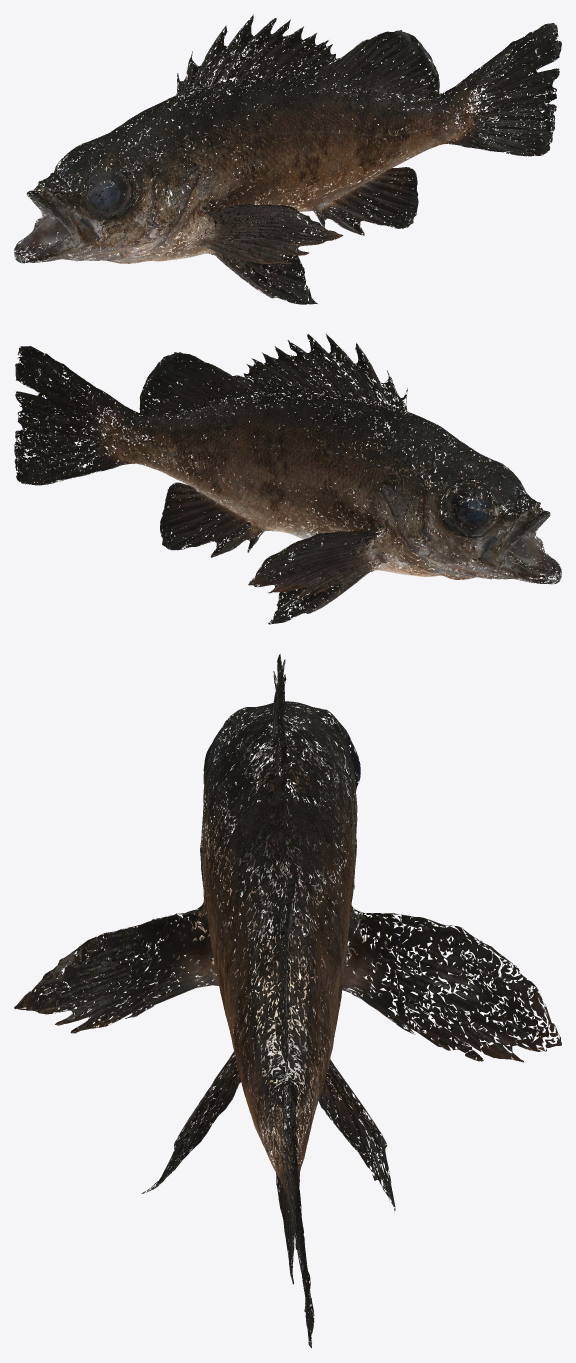
The model's file is rockfish.glb.
3 renders of one model, top to bottom at view 1: azimuth 30°, elevation 25°; view 2: azimuth 150°, elevation 25°; view 3: azimuth 270°, elevation 25°, orthographic. The views are drawn at different scales.
Visible parts, largest first — view 1: Object_6, Object_12; view 2: Object_6, Object_12; view 3: Object_6, Object_12.
Part boxes in pixels (x1=…): Object_6: x1=14, y1=15, x2=561, y2=304; Object_12: x1=14, y1=14, x2=561, y2=304; Object_6: x1=14, y1=334, x2=561, y2=623; Object_12: x1=14, y1=333, x2=561, y2=624; Object_6: x1=14, y1=653, x2=561, y2=1347; Object_12: x1=15, y1=655, x2=560, y2=1348.
Size of the model in its own units: 8.81 by 4.27 by 4.13.
2 materials, 2 textured.
